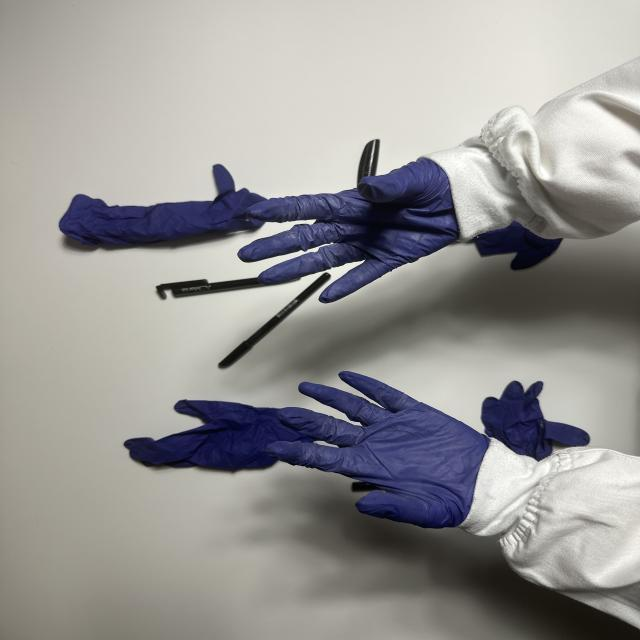gloves_contaminated: (266, 372, 489, 528), (238, 158, 458, 303)
